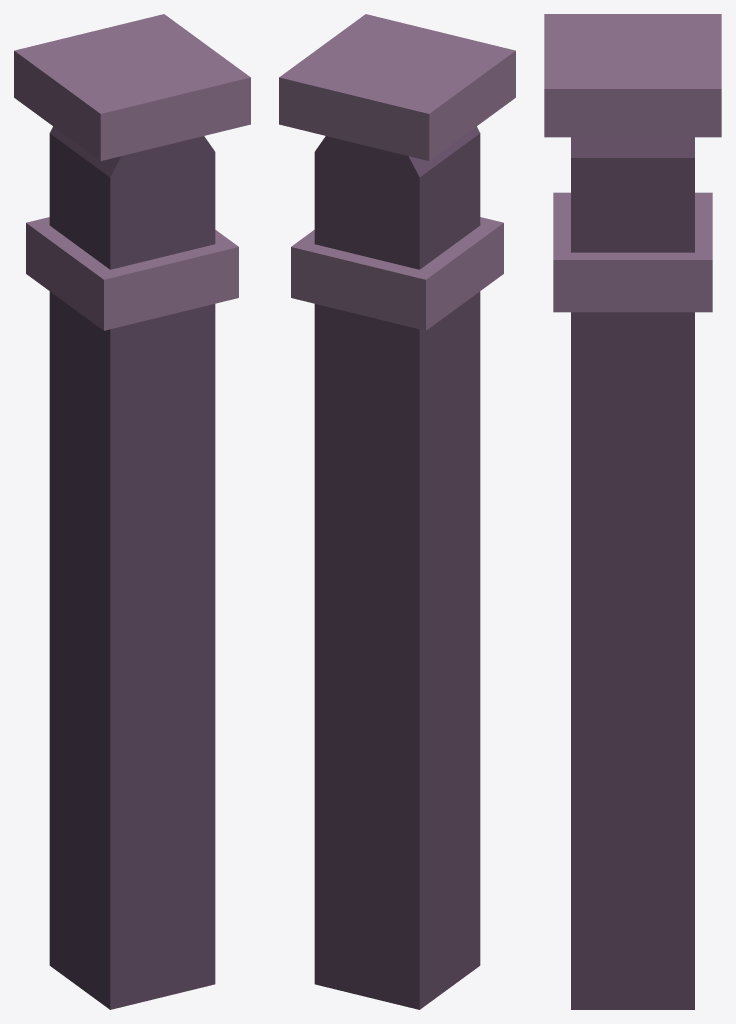
File: TW_WOOD_END_CAP_B_LOD0.glb
3 renders of one model, left to right at view 1: azimuth 30°, elevation 25°; view 2: azimuth 150°, elevation 25°; view 3: azimuth 270°, elevation 25°, orthographic. The views are drawn at different scales.
Visible parts, largest first — view 1: TW_WOOD_END_CAP_B_LOD0; view 2: TW_WOOD_END_CAP_B_LOD0; view 3: TW_WOOD_END_CAP_B_LOD0.
Boxes of the visible parts, x1,y1,x2,y2 form: TW_WOOD_END_CAP_B_LOD0: [14, 14, 250, 1009]; TW_WOOD_END_CAP_B_LOD0: [279, 14, 515, 1009]; TW_WOOD_END_CAP_B_LOD0: [544, 14, 721, 1009].
Bounding box in the file's own units: 0.2 × 1.16 × 0.2.
Materials: 1 (1 with a texture image).
